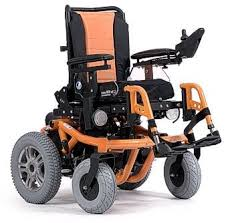wheelchair: (10, 5, 201, 198)
